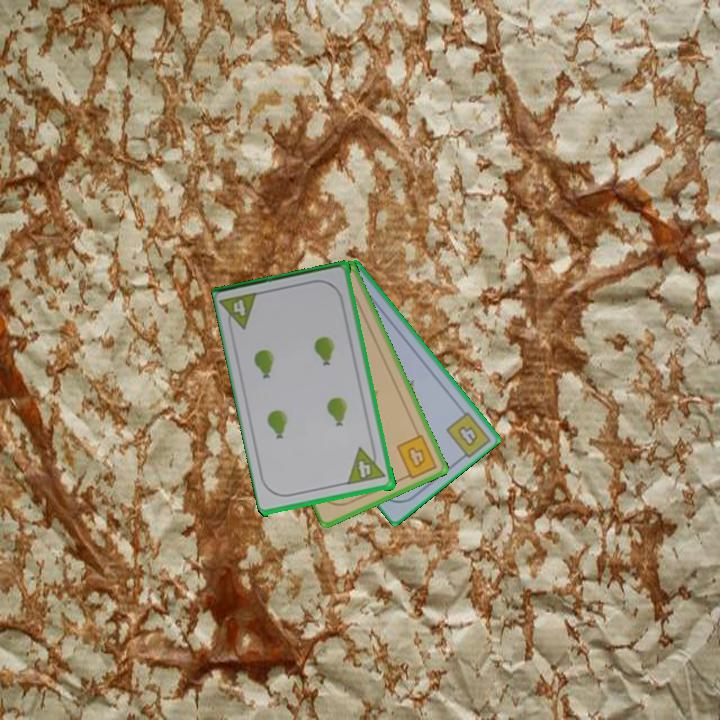4b: (393, 431, 440, 483), (454, 422, 481, 450)
4p: (218, 289, 263, 335), (344, 443, 389, 488)
